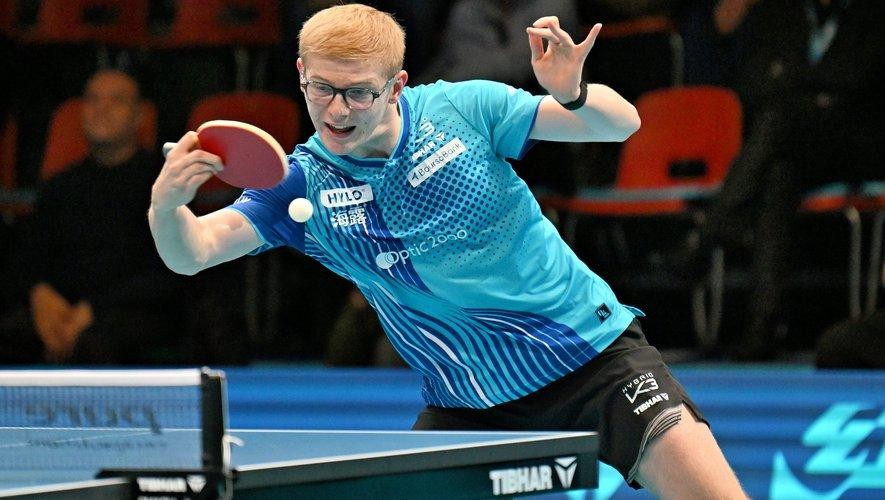ball_pingpong: (286, 196, 314, 223)
